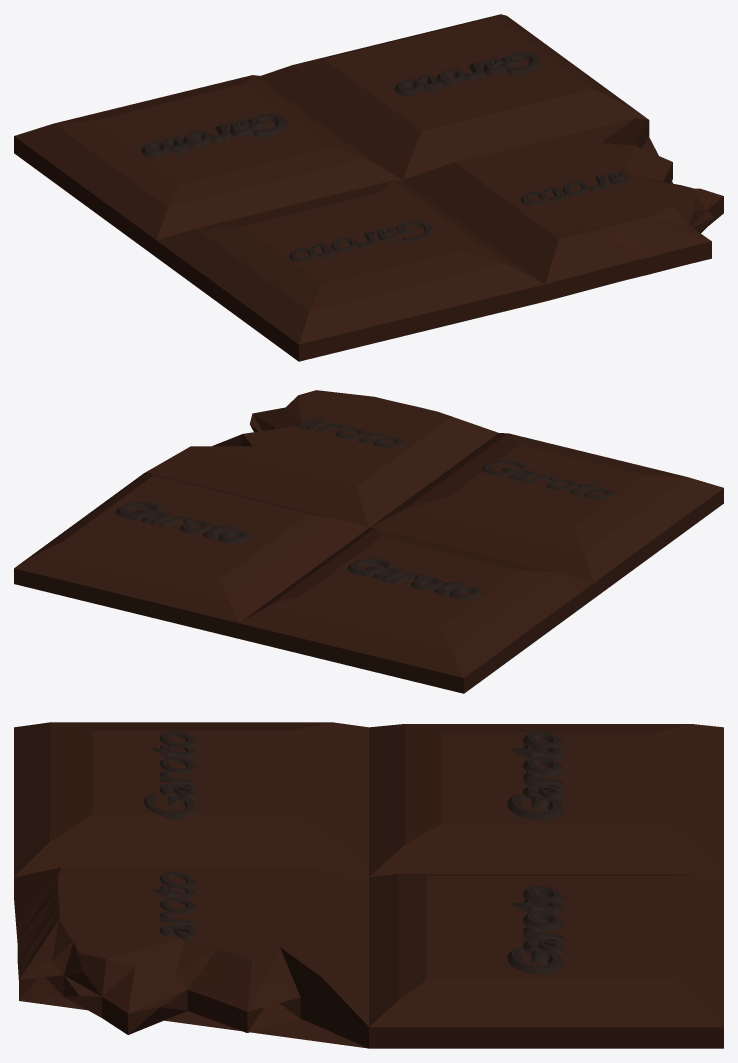
Rendered from chocolate.fbx.
The picture shows the model from 3 angles, top to bottom: view 1: azimuth 30°, elevation 25°; view 2: azimuth 150°, elevation 25°; view 3: azimuth 270°, elevation 25°; orthographic projection. The views are drawn at different scales.
Parts seen in each view (by area): view 1: Cube, Text.001, Text, Text.002, Text.003; view 2: Cube, Text.001, Text, Text.002, Text.003; view 3: Cube, Text.001, Text, Text.002, Text.003.
Boxes of the visible parts, box(x1,y1,x2,y2) form: Cube: box(14, 14, 723, 361); Text.001: box(141, 113, 287, 157); Text: box(394, 51, 541, 95); Text.002: box(289, 221, 433, 262); Text.003: box(521, 170, 629, 205); Cube: box(14, 390, 723, 693); Text.001: box(347, 558, 483, 599); Text: box(116, 502, 251, 543); Text.002: box(482, 460, 615, 499); Text.003: box(297, 418, 403, 447); Cube: box(14, 722, 723, 1048); Text.001: box(507, 731, 563, 820); Text: box(507, 885, 563, 974); Text.002: box(144, 731, 195, 819); Text.003: box(151, 872, 195, 941).
Size of the model in its own units: 4 by 0.3311 by 4.
